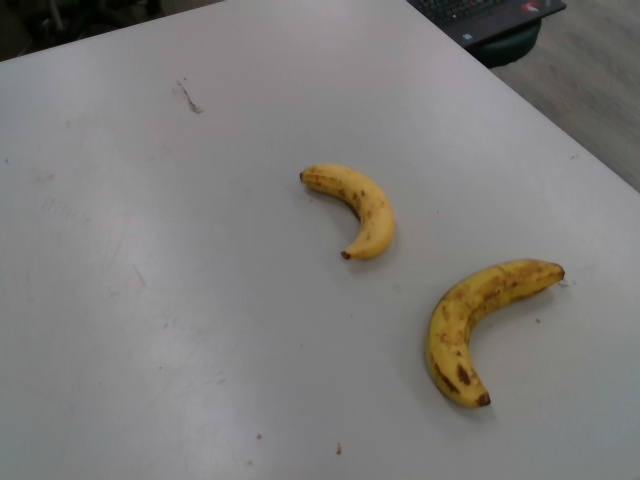banana: (416, 255, 567, 411), (297, 161, 397, 263)
